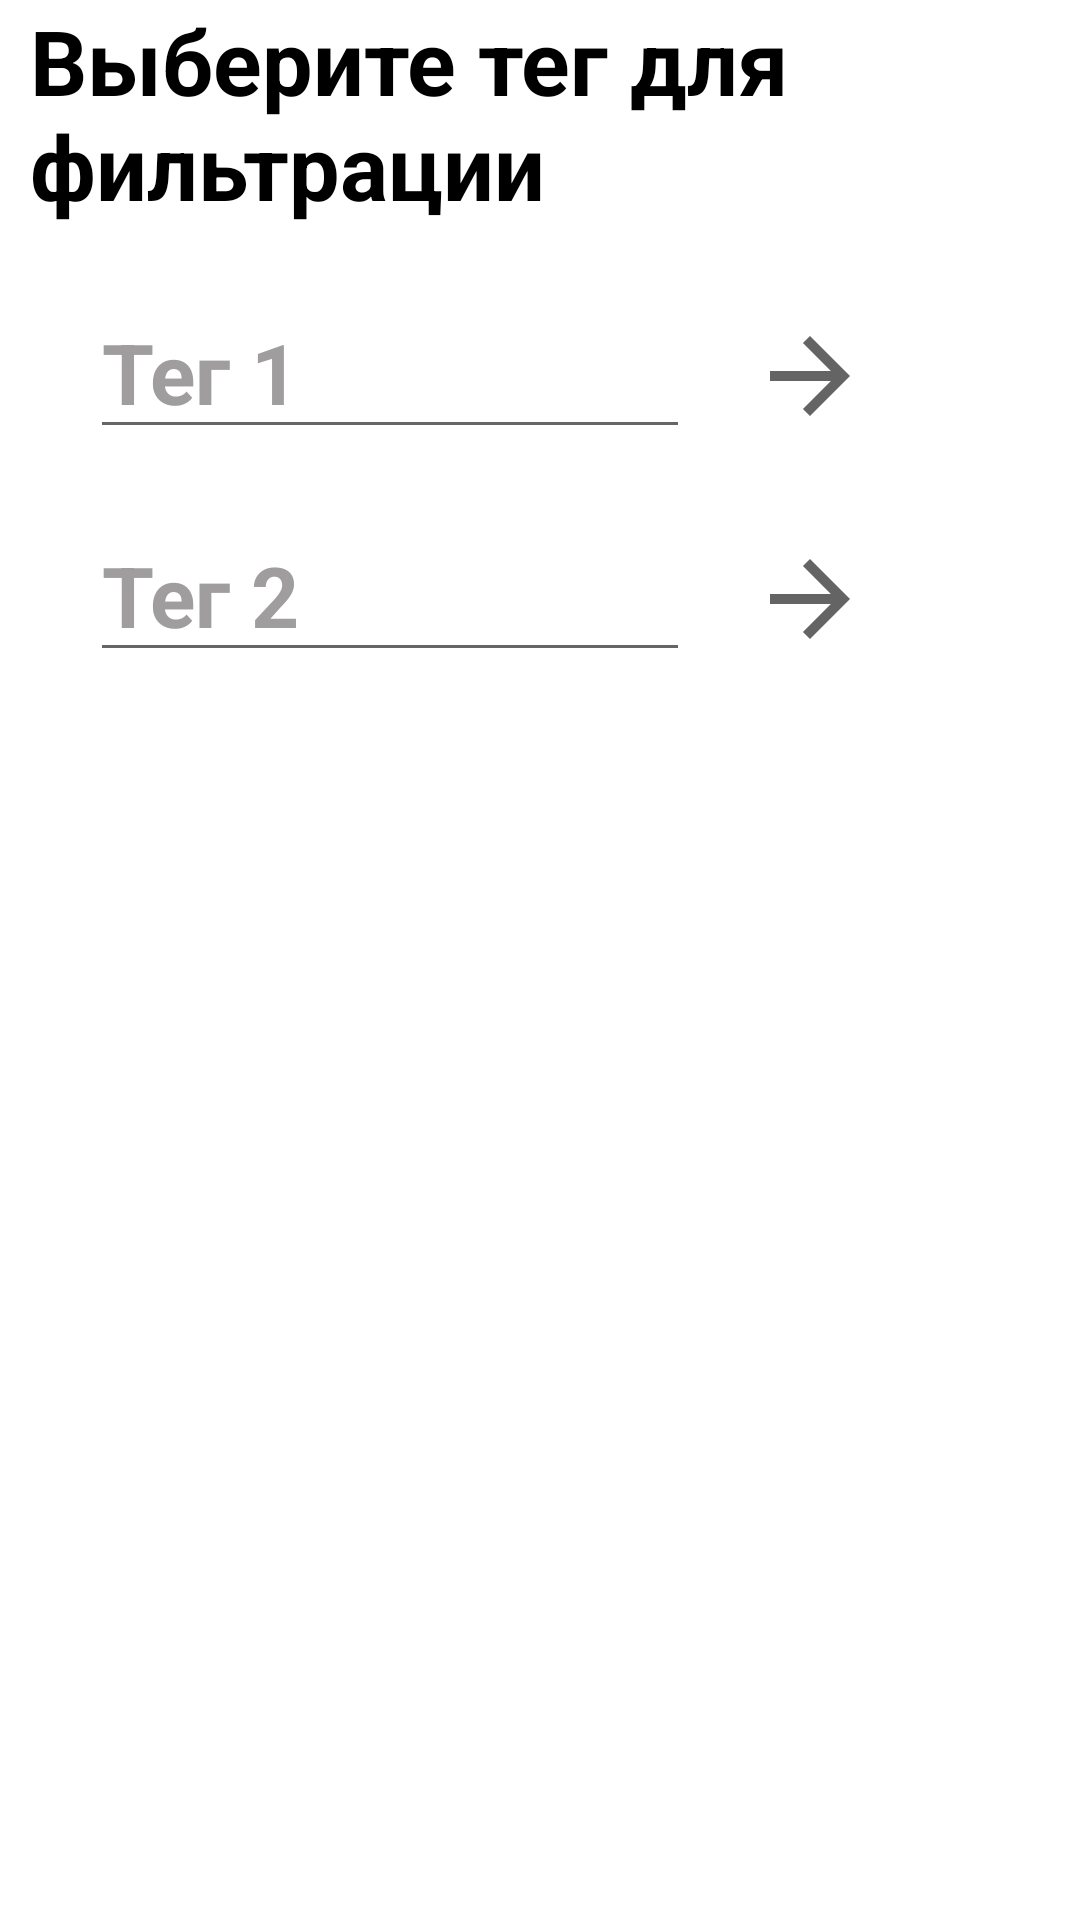

Icons on this 1080x1920 Android screen, each with the point to tap as [x,y]:
forward: [810,376], [810,599]
